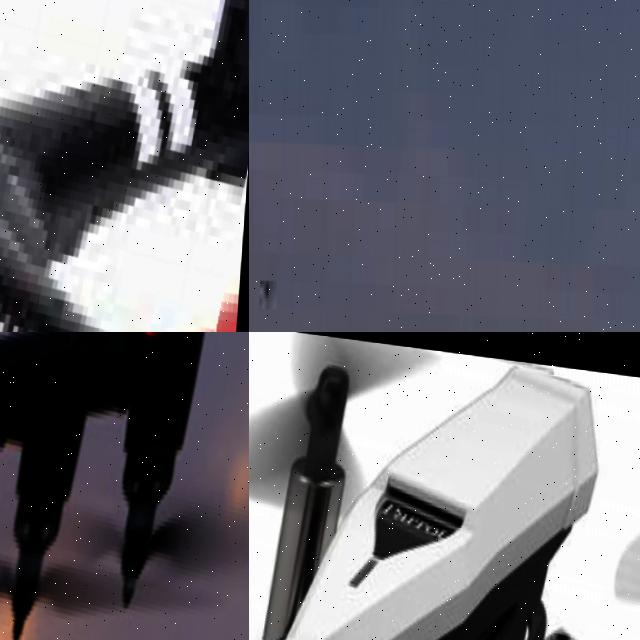drone: (249, 332, 640, 640), (0, 0, 249, 332), (0, 332, 249, 640)
